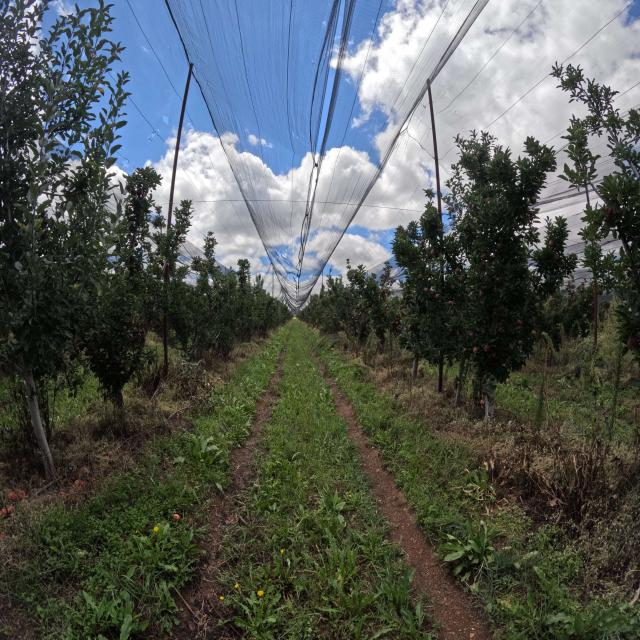-FireBlight-: (462, 347, 468, 350)
